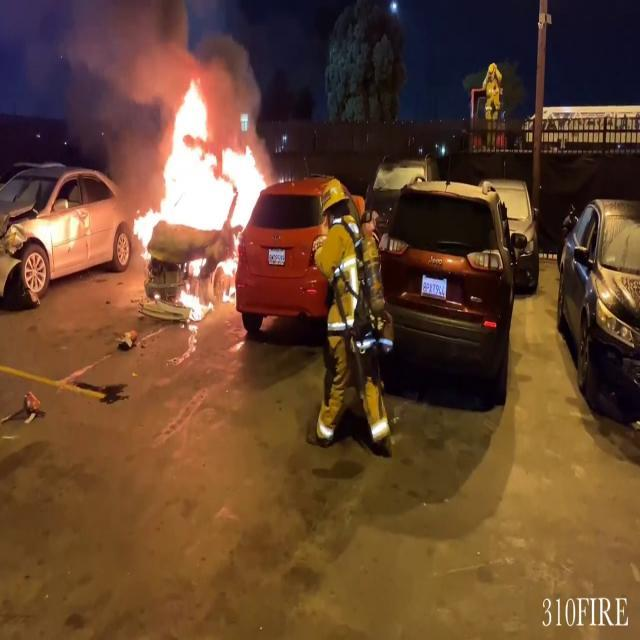Fire: (128, 74, 275, 312), (22, 200, 92, 256)
